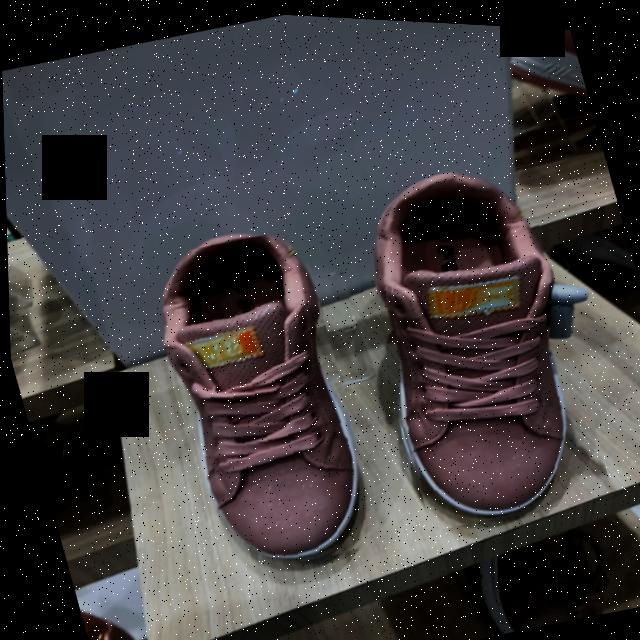shoe: (371, 168, 564, 513), (159, 233, 356, 558)
